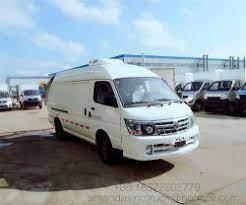Van: (42, 58, 205, 173)
